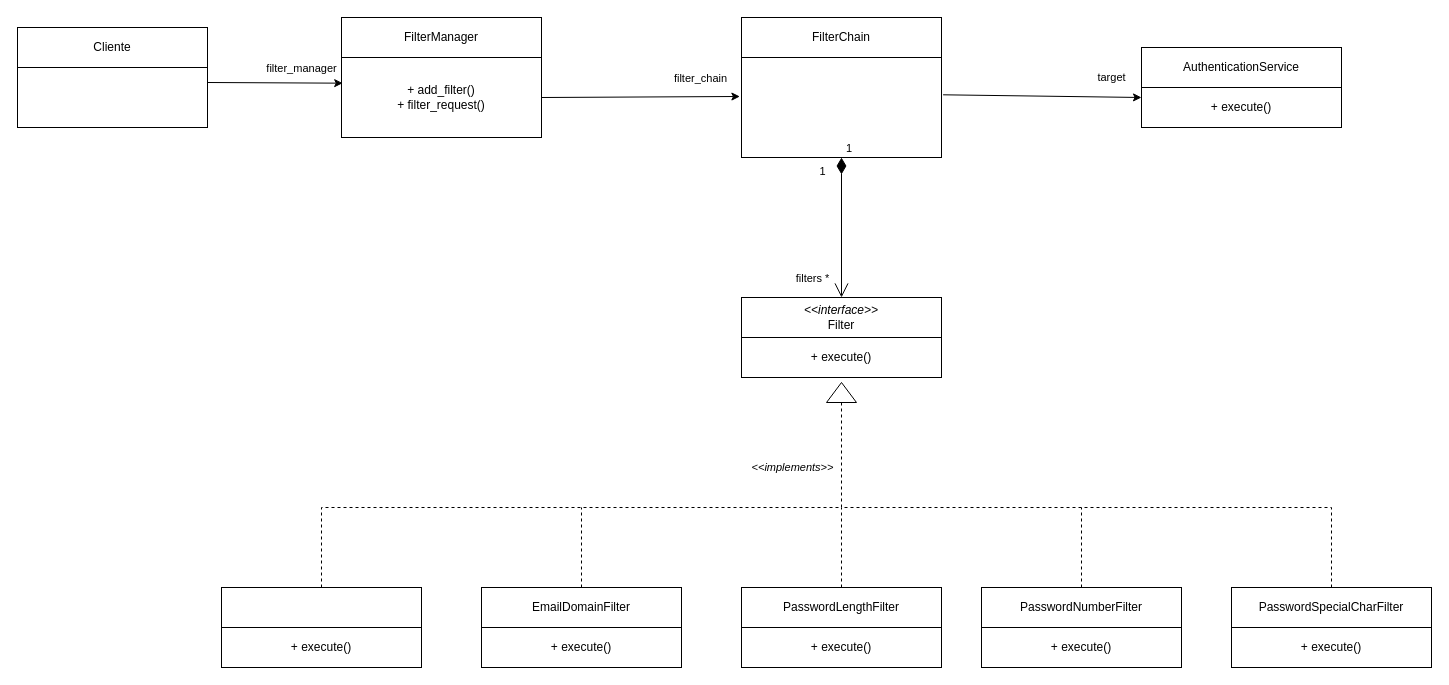
This 1449x685 diagram has some shape labels left out. The centre of each missing label's shape, as x and y in pixels:
"+ add_filter() + set_target() + execute()" belongs at point (841, 107).
"+ send_request()" belongs at point (112, 97).
"EmailTextFilter" belongs at point (321, 607).
